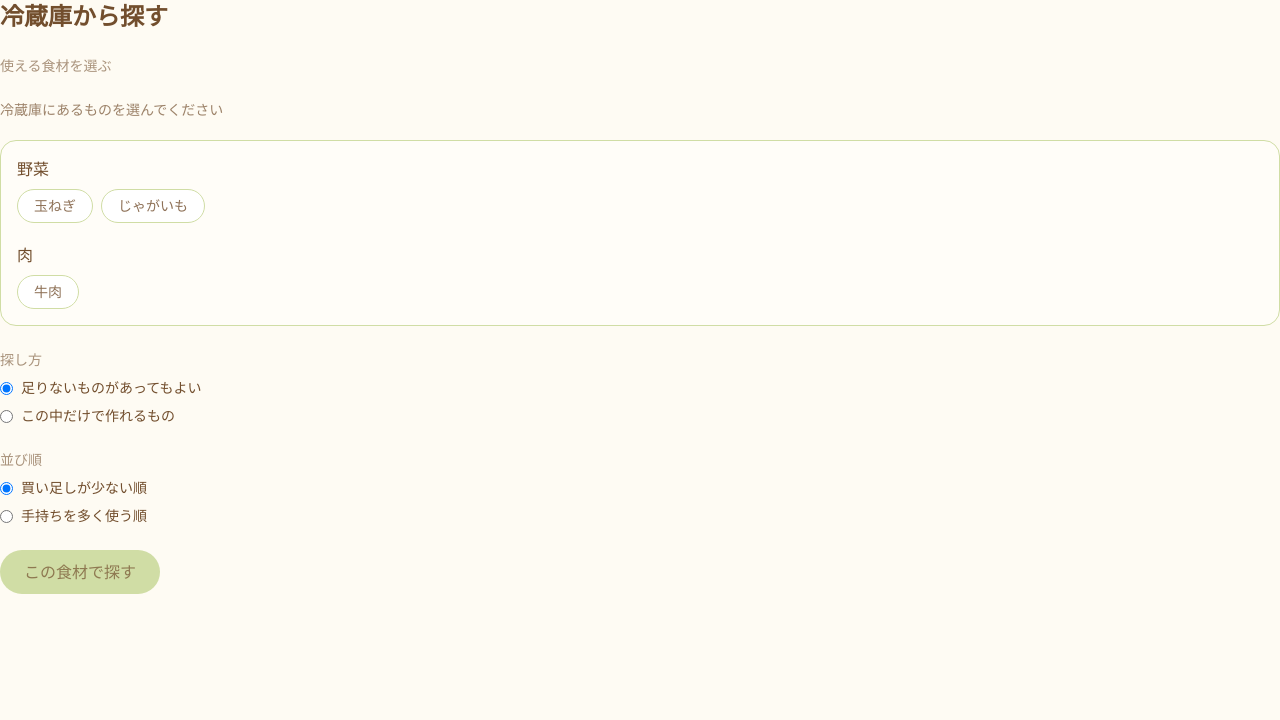
冷蔵庫から探す › 不足が無ければその旨を出す
What coordinates should you click on to do the following:
click the checkbox labelled "玉ねぎ"
I would click on:
 (55, 206)
Its box is [17,189,93,223].
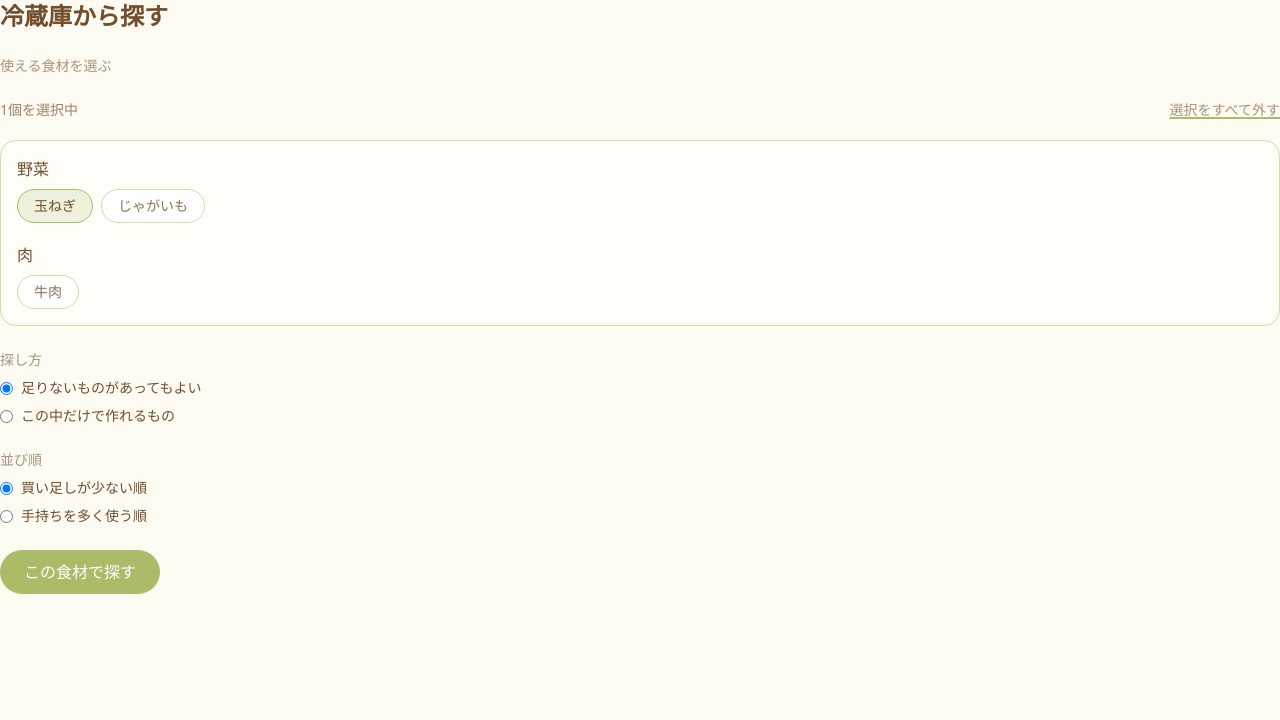
What coordinates should you click on to do the following:
click the button "この食材で探す"
I would click on:
 (80, 572)
Its box is [0,550,160,594].
(page scrolled)
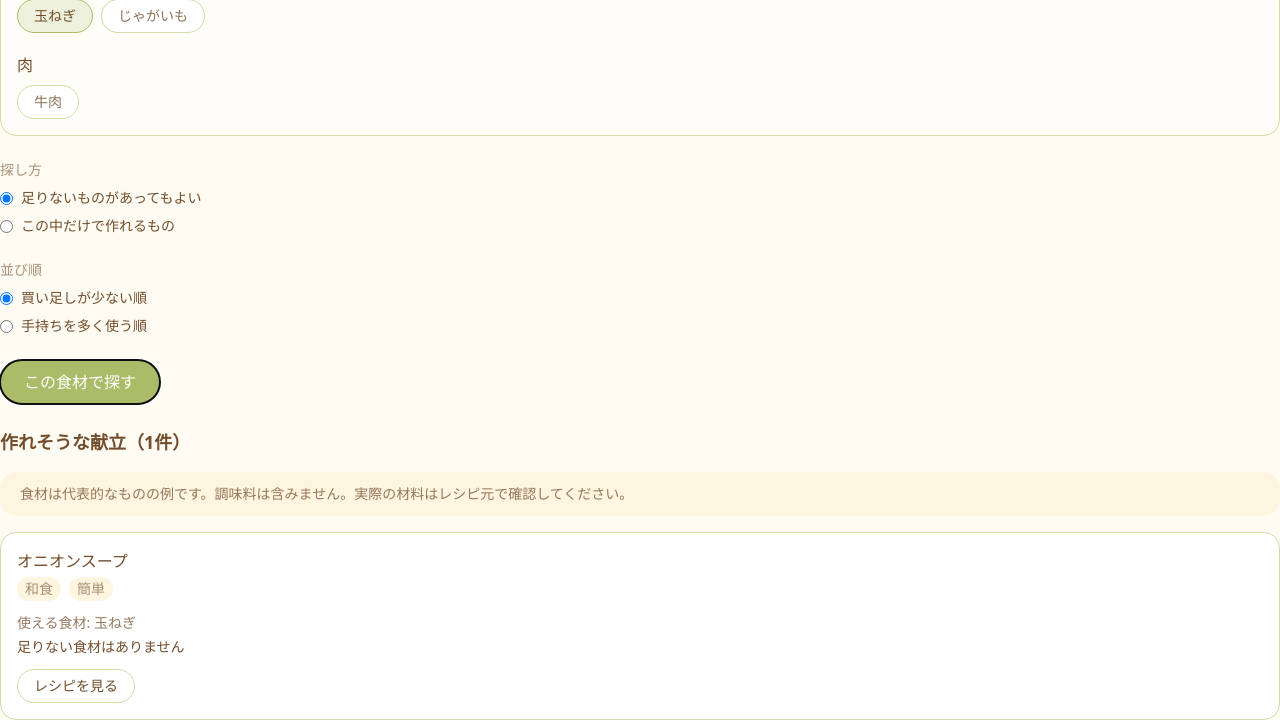
Now the text "足りない食材はありません" is shown, box [17,637,185,656]
